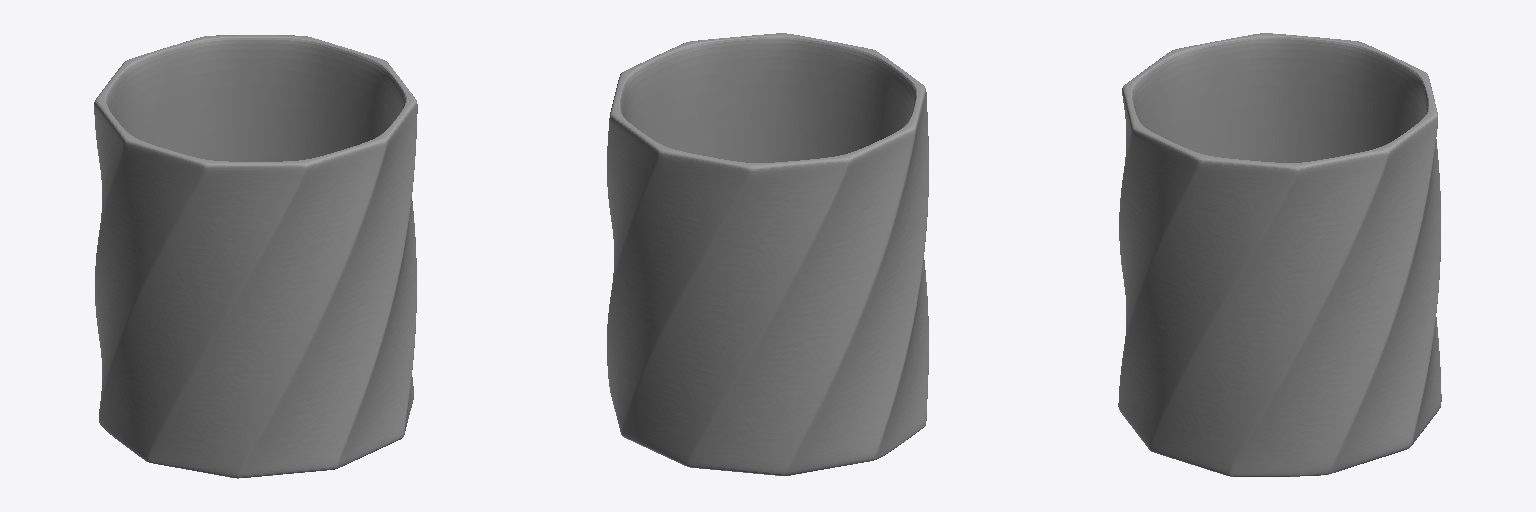
Rendered from Cup_3.obj.
The picture shows the model from 3 angles: view 1: azimuth 30°, elevation 25°; view 2: azimuth 150°, elevation 25°; view 3: azimuth 270°, elevation 25°; orthographic projection.
Parts seen in each view (by area): view 1: Cup_3_Cylinder.003; view 2: Cup_3_Cylinder.003; view 3: Cup_3_Cylinder.003.
Part boxes in pixels (x1,y1,x2,y2): Cup_3_Cylinder.003: (94,35,417,478); Cup_3_Cylinder.003: (607,33,928,475); Cup_3_Cylinder.003: (1118,33,1441,476).
Size of the model in its own units: 0.0933 by 0.1 by 0.0935.